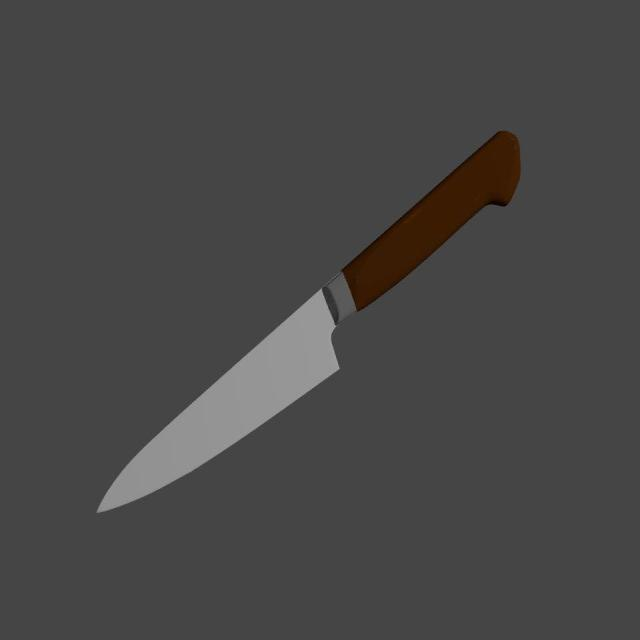knife: (340, 130, 520, 312)
